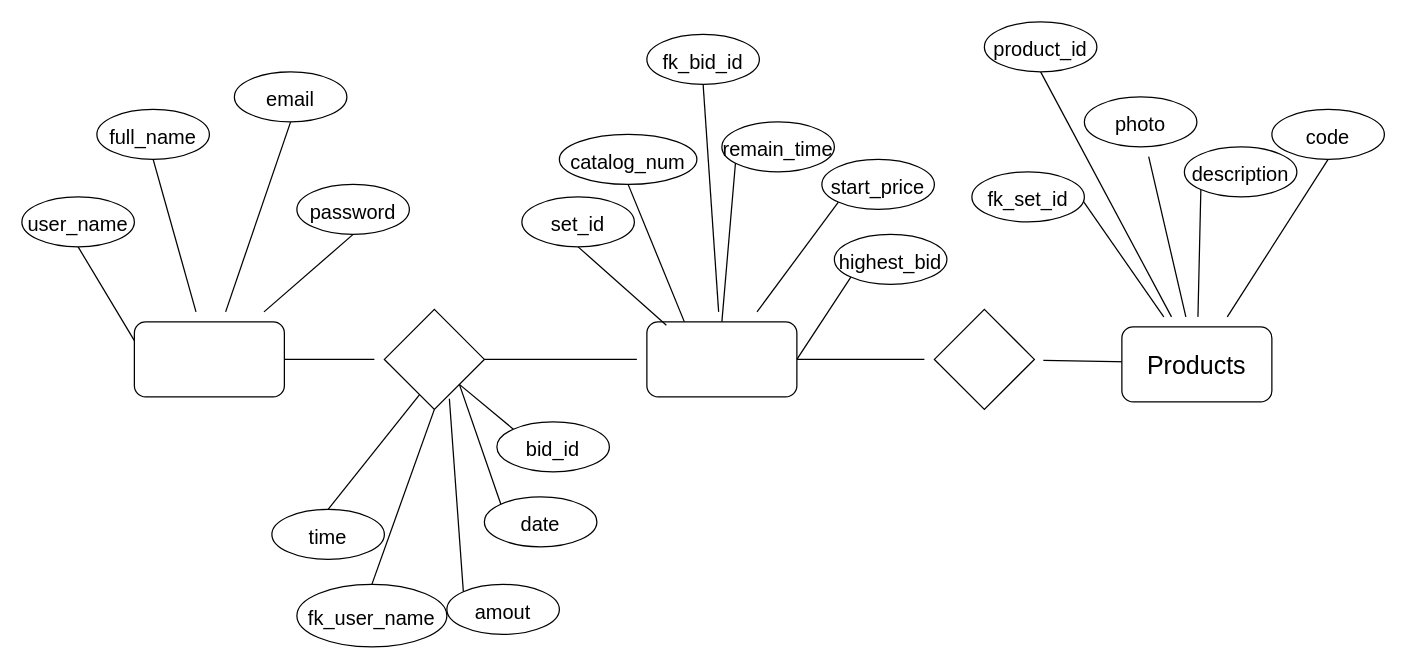
Image size: 1406x669. Some labels were removed from this diagram. Here are the shapes that lost their labels. From the top down, the centre of each, then its label:
At pixel 208 359: "costumers".
At pixel 433 358: "bid".
At pixel 721 359: "sets".
At pixel 983 358: "contain".
